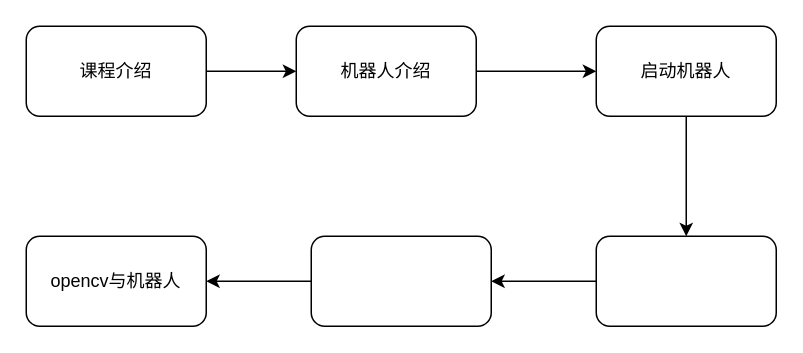
This 803x353 diagram has some shape labels left out. The centre of each missing label's shape, as x and y in pixels:
安装python与VSCode: (x=685, y=280)
机器人python控制: (x=400, y=280)
